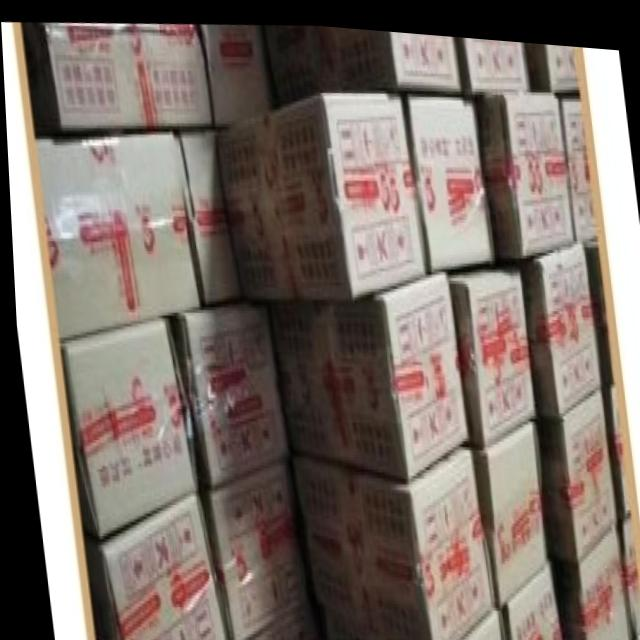box: (213, 86, 424, 300), (265, 267, 463, 474), (289, 436, 487, 640), (32, 126, 199, 336), (55, 309, 193, 534), (171, 291, 283, 484), (192, 457, 301, 640), (92, 490, 222, 640), (471, 80, 572, 252), (42, 20, 210, 123), (400, 86, 491, 267), (260, 20, 460, 102), (445, 258, 531, 436), (466, 409, 543, 599), (530, 380, 612, 549), (519, 234, 598, 406), (179, 122, 243, 298), (543, 514, 624, 640), (202, 20, 271, 120), (558, 88, 597, 234), (500, 552, 557, 640), (453, 29, 530, 86), (239, 586, 313, 640), (598, 377, 626, 514), (613, 508, 640, 640), (523, 34, 578, 83), (446, 599, 497, 640)
